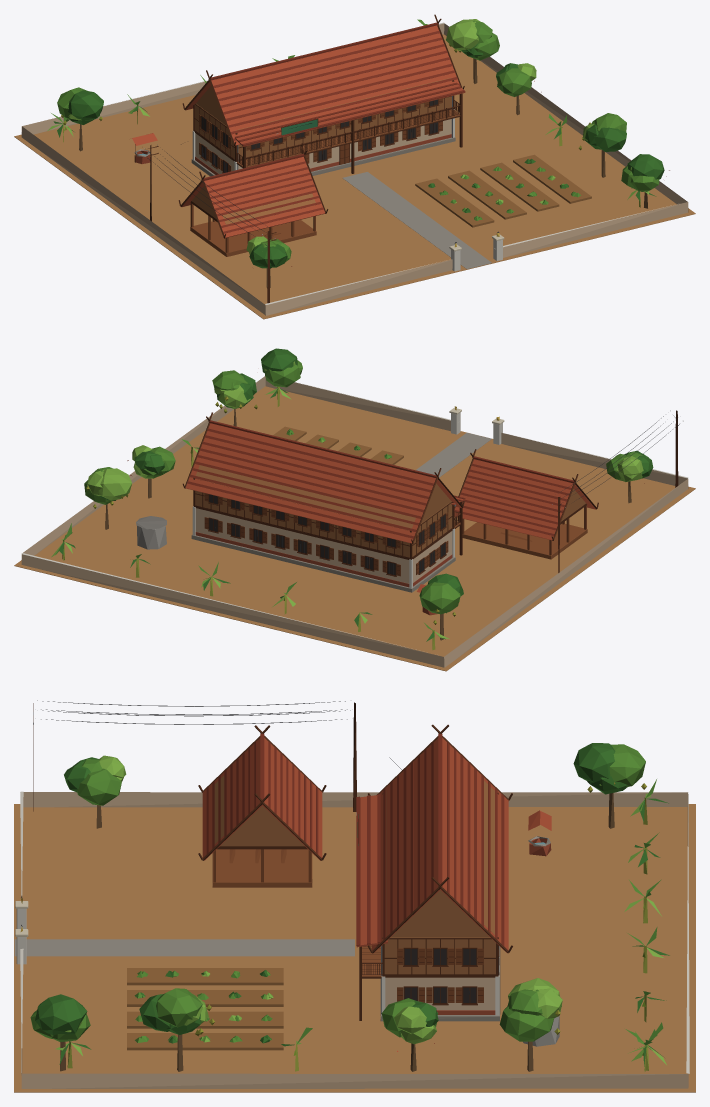
The model's file is hospital.glb.
The picture shows the model from 3 angles, top to bottom: view 1: azimuth 30°, elevation 25°; view 2: azimuth 150°, elevation 25°; view 3: azimuth 270°, elevation 25°; orthographic projection. The views are drawn at different scales.
Visible parts, largest first — view 1: body, windows; view 2: body, windows; view 3: body, windows.
Boxes of the visible parts, x1=… form: body: x1=14, y1=14, x2=695, y2=319; windows: x1=201, y1=99, x2=499, y2=247; body: x1=14, y1=348, x2=695, y2=671; windows: x1=209, y1=406, x2=499, y2=575; body: x1=14, y1=700, x2=695, y2=1092; windows: x1=20, y1=898, x2=476, y2=1002.
Bounding box in the file's own units: 47.9 × 11.58 × 47.9.
